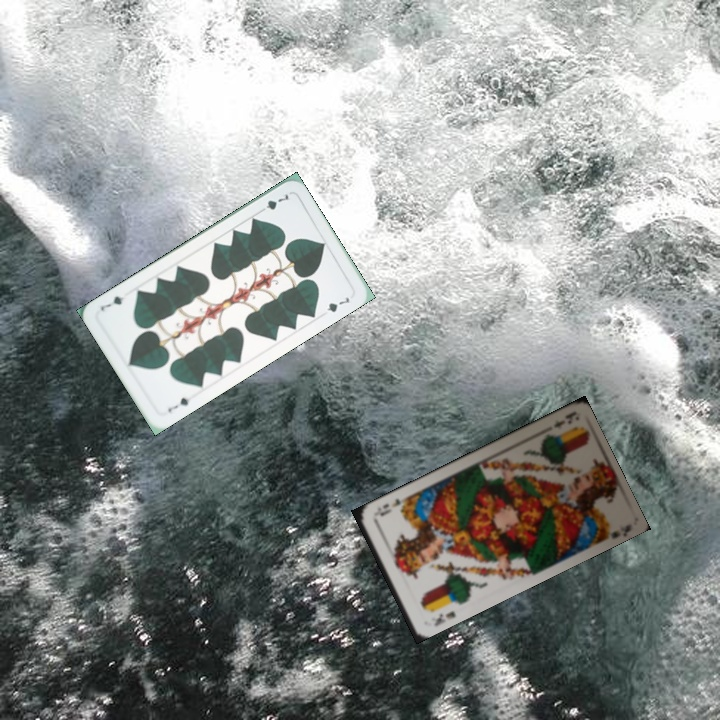EK: (550, 408, 577, 431), (430, 607, 458, 629)
G7: (256, 189, 291, 216), (164, 393, 196, 415)
